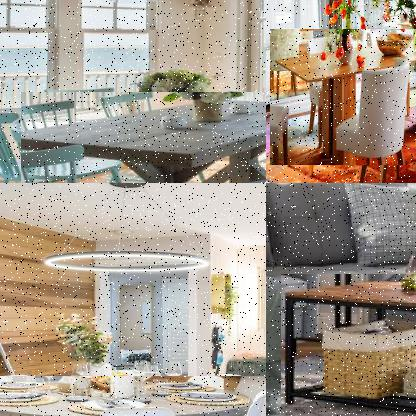table: (20, 92, 265, 182), (269, 29, 415, 167), (280, 274, 415, 415), (0, 376, 265, 415)
